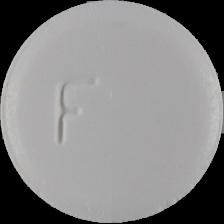68462-500: (0, 0, 224, 224)
